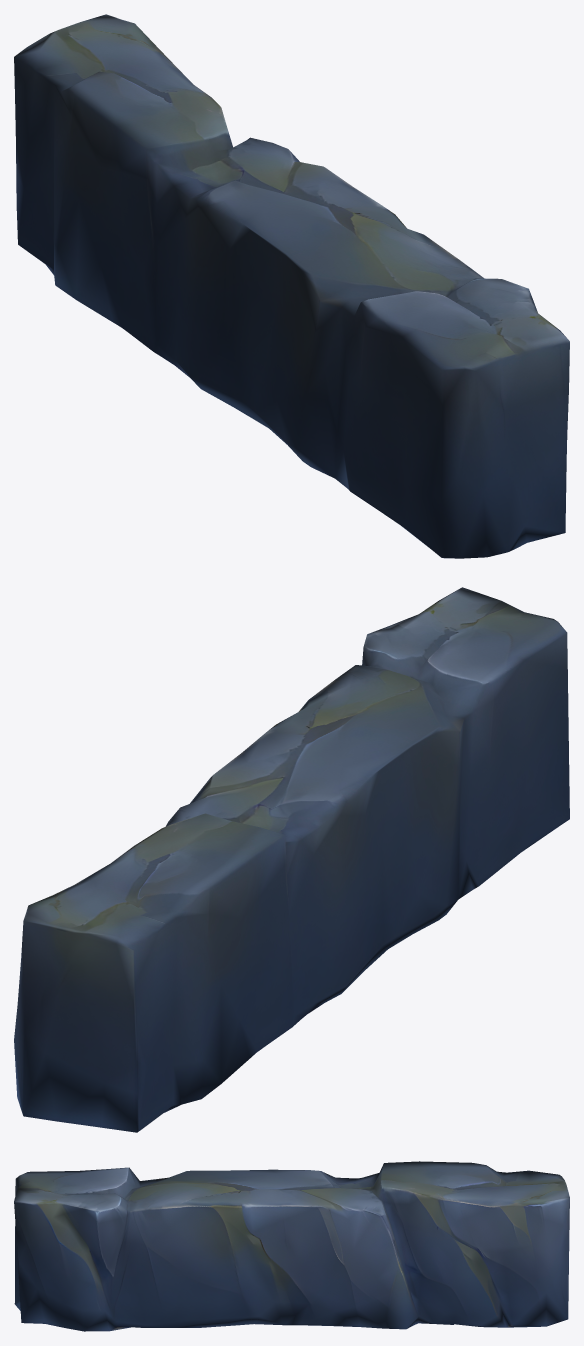
Rendered from vach_48.glb.
The picture shows the model from 3 angles, top to bottom: view 1: azimuth 30°, elevation 25°; view 2: azimuth 150°, elevation 25°; view 3: azimuth 270°, elevation 25°; orthographic projection. The views are drawn at different scales.
Parts seen in each view (by area): view 1: tripo_node_969a4f6a-800c-41c5-9ed8-1715797a7615; view 2: tripo_node_969a4f6a-800c-41c5-9ed8-1715797a7615; view 3: tripo_node_969a4f6a-800c-41c5-9ed8-1715797a7615.
Boxes of the visible parts, bbox=[...] form: tripo_node_969a4f6a-800c-41c5-9ed8-1715797a7615: bbox=[14, 14, 569, 558]; tripo_node_969a4f6a-800c-41c5-9ed8-1715797a7615: bbox=[14, 587, 569, 1132]; tripo_node_969a4f6a-800c-41c5-9ed8-1715797a7615: bbox=[14, 1161, 569, 1331].
Bounding box in the file's own units: 0.2072 × 0.2467 × 1.
1 material, 1 textured.
